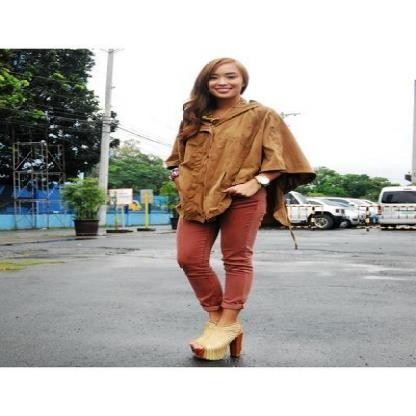jacket: (162, 97, 312, 232)
pants: (177, 192, 273, 316)
shoe: (188, 319, 243, 367)
